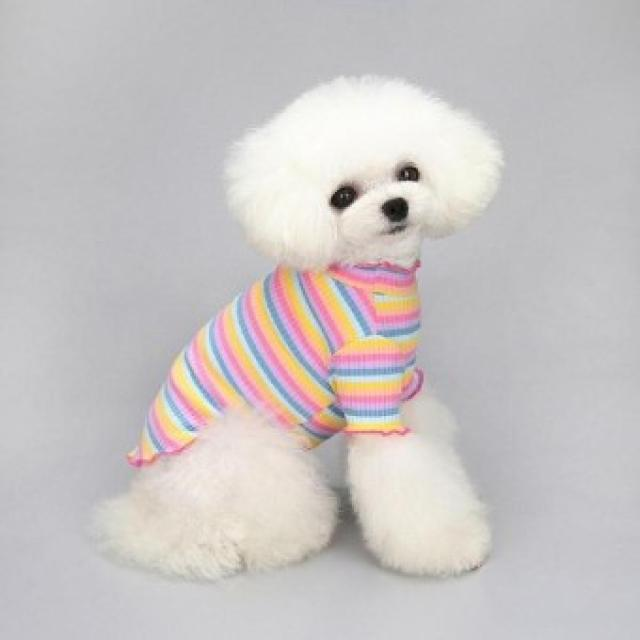cloth: (129, 264, 422, 466)
